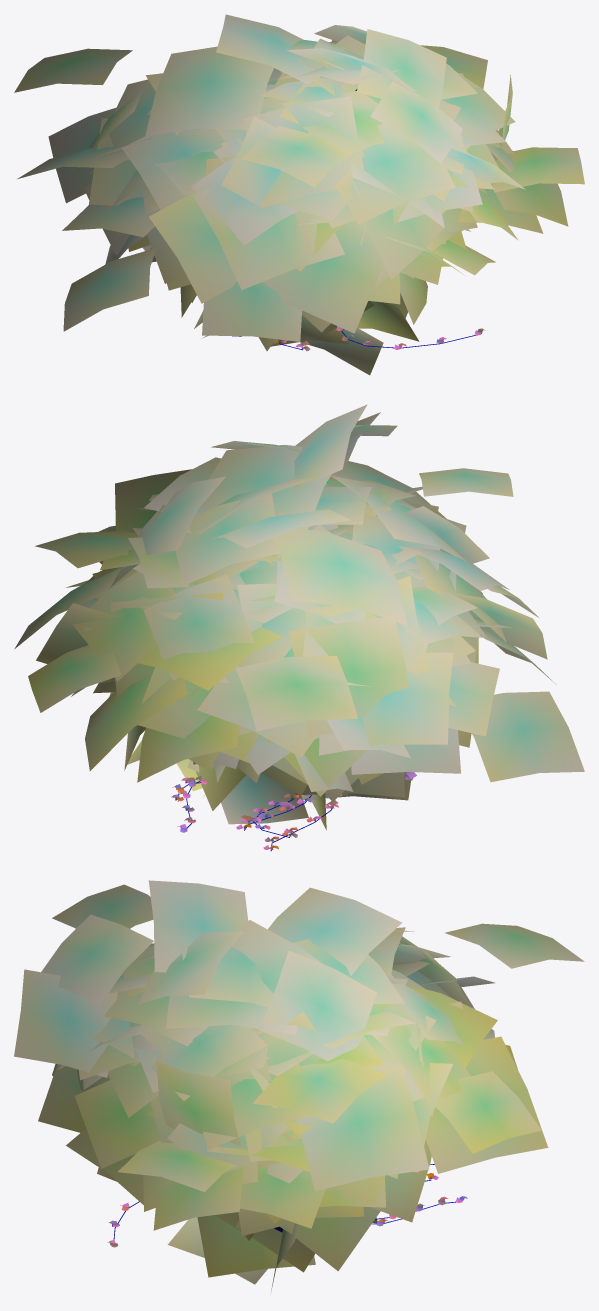
The model's file is understory.glb.
3 views of the same model, one above another, from view 1: azimuth 30°, elevation 25°; view 2: azimuth 150°, elevation 25°; view 3: azimuth 270°, elevation 25° (orthographic). The views are drawn at different scales.
Parts seen in each view (by area): view 1: shrub2_lod0, shrub1_lod0, shrub0_lod0; view 2: shrub2_lod0, shrub1_lod0, shrub0_lod0, morningglory0_lod0, morningglory1_lod0; view 3: shrub0_lod0, shrub2_lod0, shrub1_lod0.
Part boxes in pixels (<box>): shrub2_lod0: <box>17,14,525,279</box>; shrub1_lod0: <box>14,35,515,375</box>; shrub0_lod0: <box>128,40,584,346</box>; shrub2_lod0: <box>122,404,509,824</box>; shrub1_lod0: <box>14,468,584,800</box>; shrub0_lod0: <box>28,469,482,830</box>; morningglory0_lod0: <box>171,772,416,832</box>; morningglory1_lod0: <box>249,793,341,851</box>; shrub0_lod0: <box>38,984,548,1293</box>; shrub2_lod0: <box>14,880,494,1092</box>; shrub1_lod0: <box>52,884,584,1284</box>.
Size of the model in its own units: 4.88 by 3.22 by 4.59.
